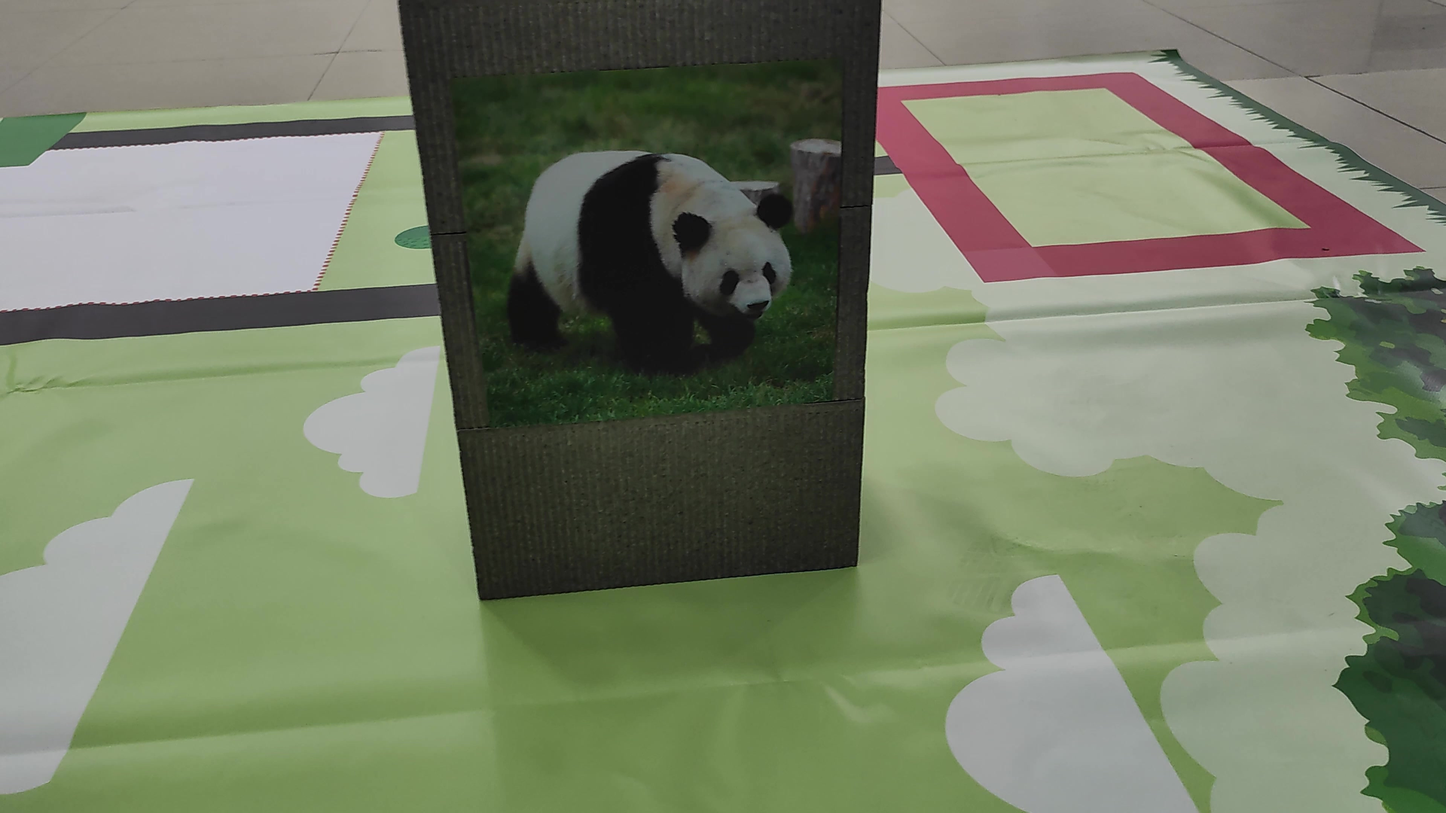panda: (506, 136, 801, 397)
